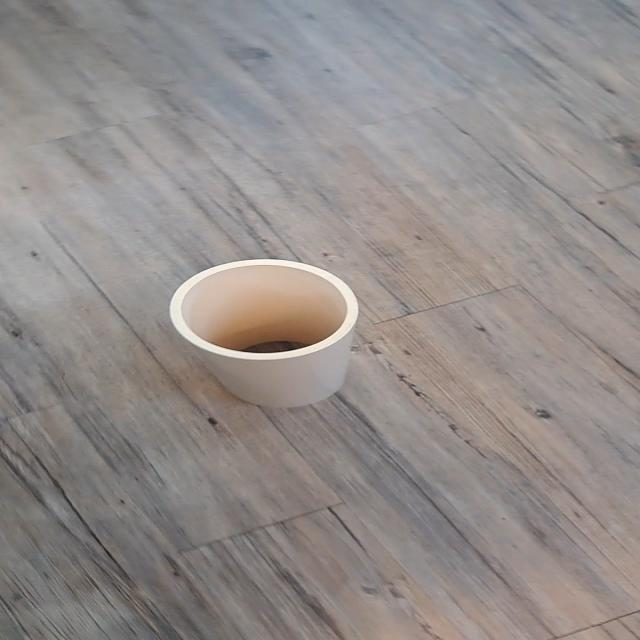CORAL: (137, 234, 404, 436)
